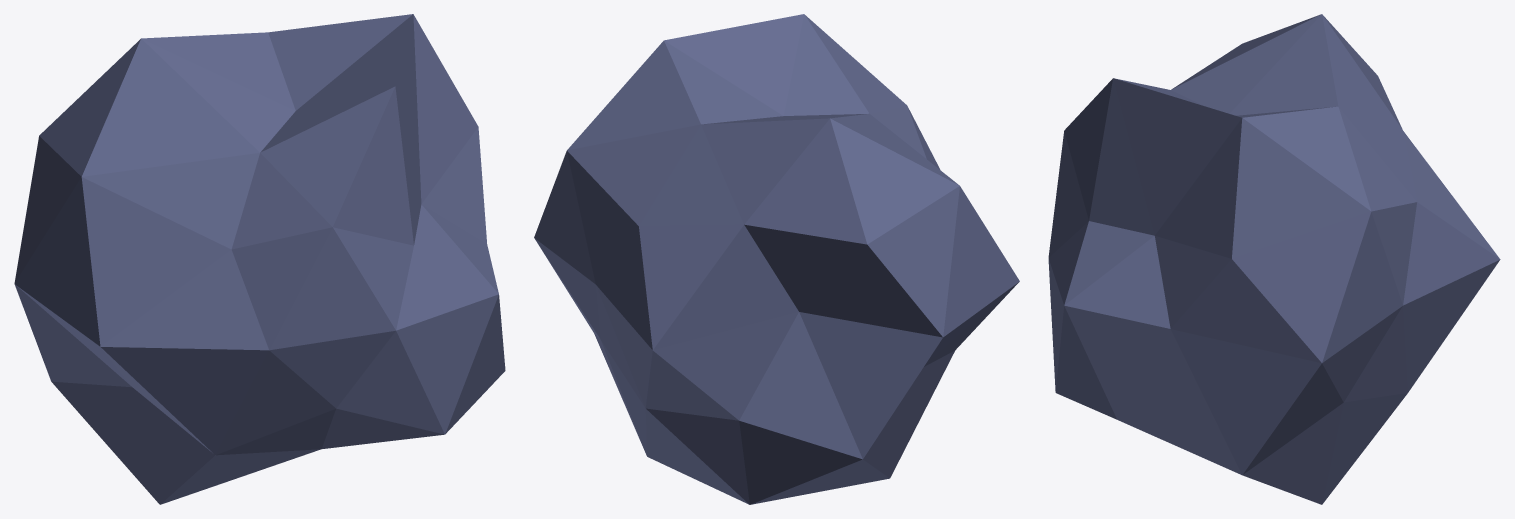
The model's file is wandering_planet8.fbx.
The picture shows the model from 3 angles, left to right: view 1: azimuth 30°, elevation 25°; view 2: azimuth 150°, elevation 25°; view 3: azimuth 270°, elevation 25°; orthographic projection. The views are drawn at different scales.
Visible parts, largest first — view 1: wandering_planet8; view 2: wandering_planet8; view 3: wandering_planet8.
Part boxes in pixels (x1,y1,x2,y2): wandering_planet8: [14, 14, 505, 504]; wandering_planet8: [534, 14, 1019, 504]; wandering_planet8: [1048, 14, 1500, 504].
Bounding box in the file's own units: 190 × 170 × 175.
